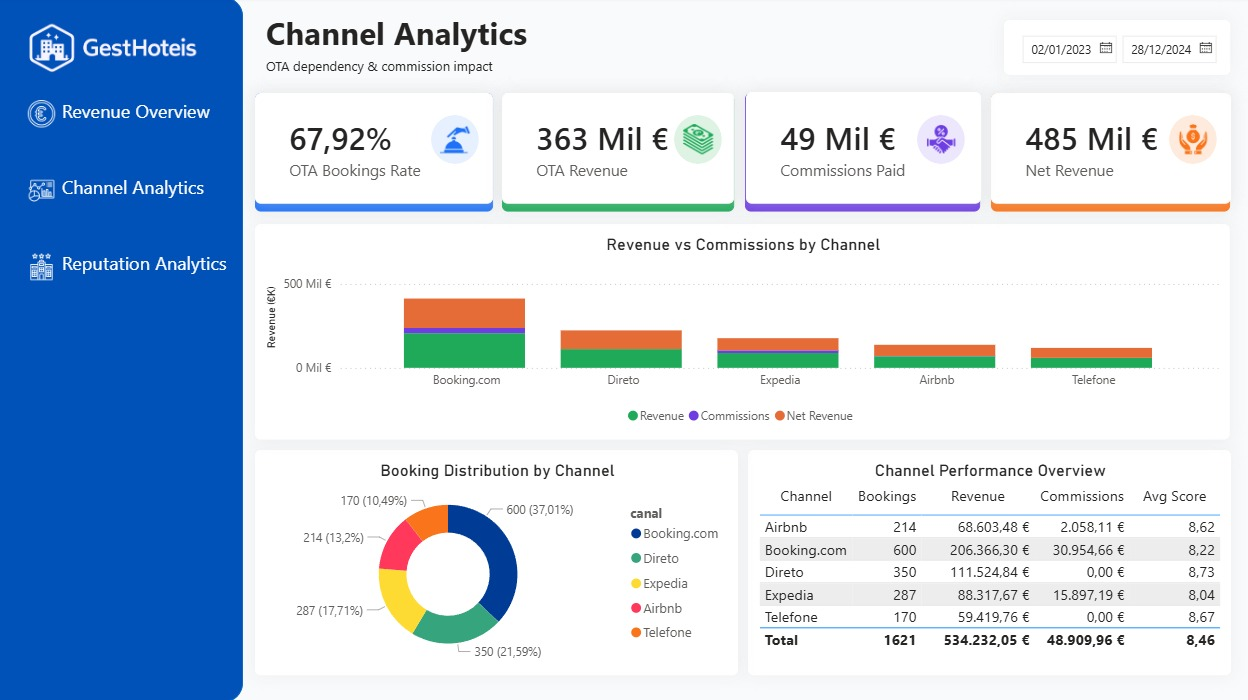

What the dashboard file says about the page in this screenshot:
{"tool":"powerbi","page":{"name":"Channel Analytics","canvas":[1280,720],"ordinal":1},"visuals":[{"type":"tableEx","title":"Channel Performance Overview","fields":{"Values":["analise_canal.canal","Sum(analise_canal.reservas)","Sum(analise_canal.revenue)","Sum(analise_canal.comissoes)","Avg(analise_reviews.score_medio)"]},"box":[767.4,462,493.1,229.5],"z":0},{"type":"donutChart","title":"Booking Distribution by Channel","fields":{"Category":["analise_canal.canal"],"Y":["Sum(analise_canal.reservas)"]},"box":[264.6,462,493.1,229.5],"z":1000},{"type":"columnChart","title":"Revenue vs Commissions by Channel","fields":{"Category":["analise_canal.canal"],"Y":["Sum(analise_canal.revenue)","Sum(analise_canal.comissoes)","Sum(analise_canal.revenue_liquido)"]},"box":[264.6,231.5,995,219.8],"z":2000},{"type":"shape","box":[264.6,98.2,243.2,120.6],"z":3000},{"type":"shape","box":[516.7,98.9,236.7,120],"z":4000},{"type":"shape","box":[1015.4,98.2,244.1,120.6],"z":5000},{"type":"cardVisual","title":"Total Revenue","fields":{"Data":["fact_reservas.% Reservas OTA"]},"box":[264.6,98.2,243.2,112.8],"z":6000},{"type":"shape","box":[765,97.5,240,121.2],"z":7000},{"type":"cardVisual","fields":{"Data":["fact_reservas.Revenue Líquido"]},"box":[1015.4,98.2,245.1,112.8],"z":8000},{"type":"cardVisual","fields":{"Data":["fact_reservas.Revenue OTA"]},"box":[516.5,98.2,237.3,112.8],"z":10000},{"type":"shape","box":[0,0,252.2,720],"z":11000},{"type":"cardVisual","fields":{"Data":["fact_reservas.Comissões OTA"]},"box":[765.5,97.3,240.2,113.8],"z":12000},{"type":"shape","box":[0,0,139.5,719.8],"z":13000},{"type":"image","box":[11.6,23.3,216.7,56],"z":14000},{"type":"textbox","box":[270.6,9.5,302.3,61.3],"z":15000},{"type":"textbox","box":[270.4,56.4,278.2,29.2],"z":16000},{"type":"textbox","box":[62.2,98.9,165.6,41.1],"z":17000},{"type":"textbox","box":[62.2,176.7,165.6,41.1],"z":18000},{"type":"textbox","box":[62.2,254.4,190,41.1],"z":19000},{"type":"image","box":[22.2,105.6,47.8,27.8],"z":20000},{"type":"image","box":[22.2,183.3,47.8,27.8],"z":21000},{"type":"image","box":[22.2,261.1,47.8,27.8],"z":22000},{"type":"actionButton","box":[0,93.3,252.2,54.4],"z":23000},{"type":"actionButton","box":[0,169.2,250.9,54.5],"z":24000},{"type":"actionButton","box":[0,246.7,252.2,54.4],"z":25000},{"type":"slicer","fields":{"Values":["fact_reservas.checkin"]},"box":[1028.9,23.3,231.1,55.6],"z":26000},{"type":"shape","box":[444.4,120,48.9,50],"z":27000},{"type":"shape","box":[692.2,120,48.9,50],"z":28000},{"type":"shape","box":[940,120,48.9,50],"z":29000},{"type":"shape","box":[1197.8,120,48.9,50],"z":30000},{"type":"image","box":[452.2,130,33.3,31.1],"z":31000},{"type":"image","box":[700,130,33.3,31.1],"z":32000},{"type":"image","box":[947.8,130,33.3,31.1],"z":33000},{"type":"image","box":[1205.6,130,33.3,31.1],"z":34000}]}

Visuals, with their boxes on the page's 1280x720 design canvas (x1, y1, x2, y2). These are canvas units, not pixel positions in the 1248x700 screenshot, which may show the page scaled, cropped or inside an application window:
"Channel Performance Overview" tableEx: pyautogui.locateOnScreen(767, 462, 1260, 692)
"Booking Distribution by Channel" donutChart: pyautogui.locateOnScreen(265, 462, 758, 692)
"Revenue vs Commissions by Channel" columnChart: pyautogui.locateOnScreen(265, 232, 1260, 451)
shape: pyautogui.locateOnScreen(265, 98, 508, 219)
shape: pyautogui.locateOnScreen(517, 99, 753, 219)
shape: pyautogui.locateOnScreen(1015, 98, 1260, 219)
"Total Revenue" cardVisual: pyautogui.locateOnScreen(265, 98, 508, 211)
shape: pyautogui.locateOnScreen(765, 98, 1005, 219)
cardVisual - fact_reservas.Revenue Líquido: pyautogui.locateOnScreen(1015, 98, 1260, 211)
cardVisual - fact_reservas.Revenue OTA: pyautogui.locateOnScreen(516, 98, 754, 211)
shape: pyautogui.locateOnScreen(0, 0, 252, 720)
cardVisual - fact_reservas.Comissões OTA: pyautogui.locateOnScreen(766, 97, 1006, 211)
shape: pyautogui.locateOnScreen(0, 0, 140, 720)
image: pyautogui.locateOnScreen(12, 23, 228, 79)
textbox: pyautogui.locateOnScreen(271, 10, 573, 71)
textbox: pyautogui.locateOnScreen(270, 56, 549, 86)
textbox: pyautogui.locateOnScreen(62, 99, 228, 140)
textbox: pyautogui.locateOnScreen(62, 177, 228, 218)
textbox: pyautogui.locateOnScreen(62, 254, 252, 296)
image: pyautogui.locateOnScreen(22, 106, 70, 133)
image: pyautogui.locateOnScreen(22, 183, 70, 211)
image: pyautogui.locateOnScreen(22, 261, 70, 289)
actionButton: pyautogui.locateOnScreen(0, 93, 252, 148)
actionButton: pyautogui.locateOnScreen(0, 169, 251, 224)
actionButton: pyautogui.locateOnScreen(0, 247, 252, 301)
slicer - fact_reservas.checkin: pyautogui.locateOnScreen(1029, 23, 1260, 79)
shape: pyautogui.locateOnScreen(444, 120, 493, 170)
shape: pyautogui.locateOnScreen(692, 120, 741, 170)
shape: pyautogui.locateOnScreen(940, 120, 989, 170)
shape: pyautogui.locateOnScreen(1198, 120, 1247, 170)
image: pyautogui.locateOnScreen(452, 130, 486, 161)
image: pyautogui.locateOnScreen(700, 130, 733, 161)
image: pyautogui.locateOnScreen(948, 130, 981, 161)
image: pyautogui.locateOnScreen(1206, 130, 1239, 161)
